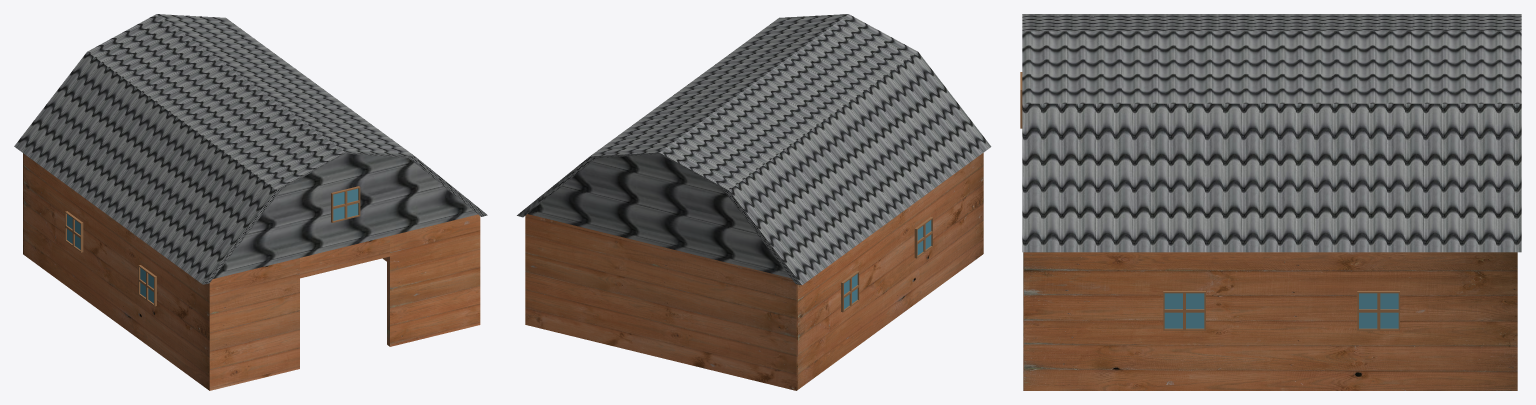
Rendered from shed_1.fbx.
3 renders of one model, left to right at view 1: azimuth 30°, elevation 25°; view 2: azimuth 150°, elevation 25°; view 3: azimuth 270°, elevation 25°, orthographic. The views are drawn at different scales.
Visible parts, largest first — view 1: dak, muren, Plane, Plane.004, Plane.003; view 2: dak, muren, Plane.003, Plane.004; view 3: dak, muren, Plane.002, Plane.001.
Boxes of the visible parts, box(x1,y1,x2,y2) form: dak: box(14, 14, 487, 284); muren: box(23, 153, 480, 390); Plane: box(331, 186, 360, 222); Plane.004: box(138, 265, 156, 306); Plane.003: box(65, 211, 83, 252); dak: box(517, 14, 991, 285); muren: box(525, 153, 983, 390); Plane.003: box(841, 271, 859, 312); Plane.004: box(914, 217, 932, 258); dak: box(1022, 14, 1521, 252); muren: box(1023, 252, 1517, 390); Plane.002: box(1357, 291, 1399, 330); Plane.001: box(1163, 291, 1205, 330).
Size of the model in its own units: 1075 by 742 by 1239.
